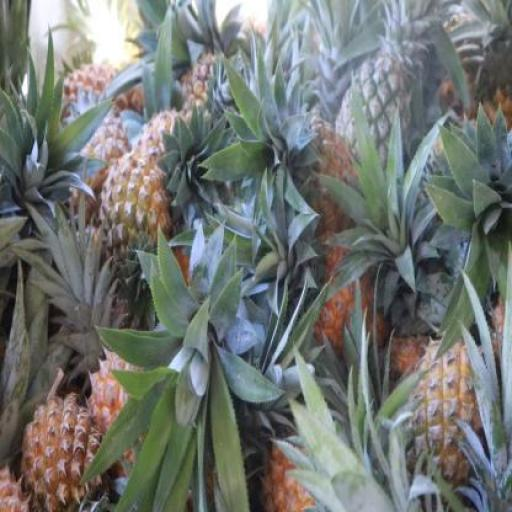------------------------------: (398, 343, 481, 496), (100, 148, 167, 282)
Pineapple - v8 v1: (19, 394, 97, 512)
